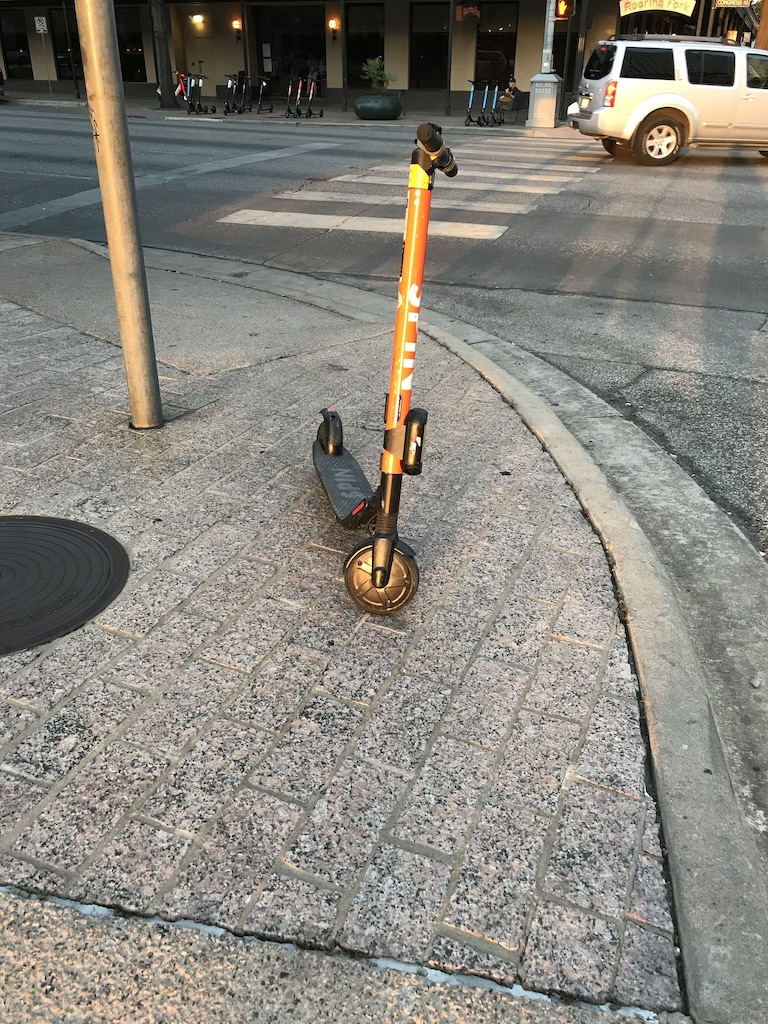scooter: (313, 122, 459, 615), (224, 75, 243, 118), (196, 77, 217, 114), (465, 81, 480, 127), (307, 78, 324, 118), (489, 81, 503, 129), (257, 76, 274, 115), (294, 79, 307, 119), (239, 76, 253, 112), (480, 83, 490, 127), (286, 78, 295, 119), (230, 76, 241, 109), (190, 76, 198, 112), (186, 75, 193, 107)
